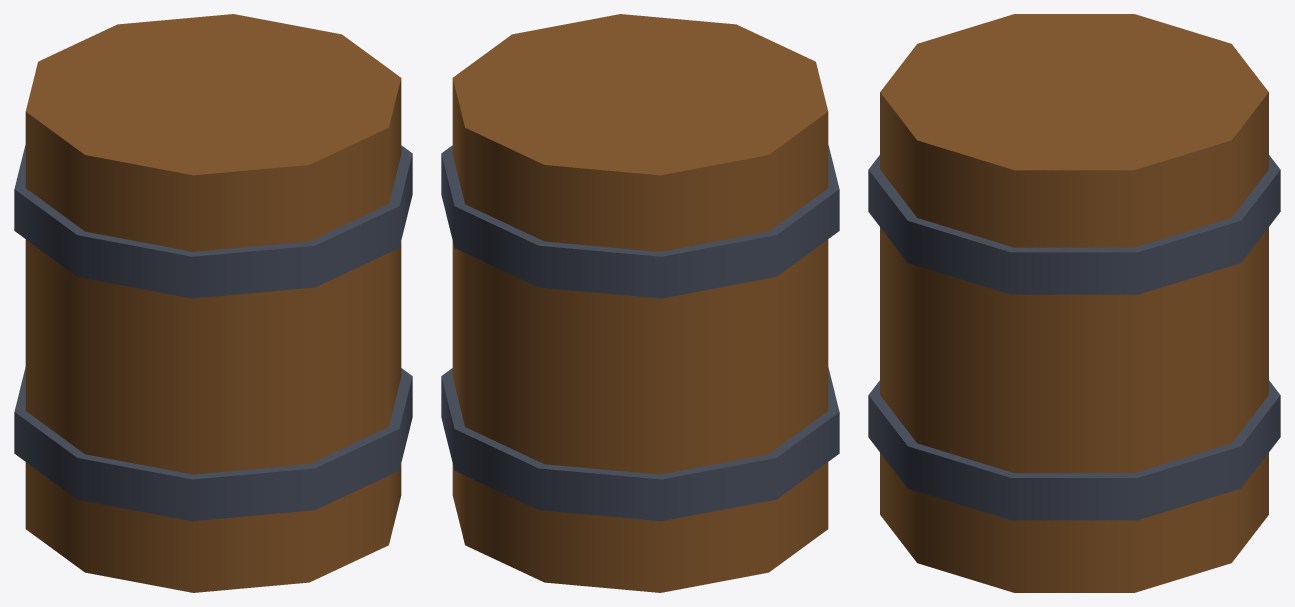
Rendered from tonneau.glb.
The picture shows the model from 3 angles, left to right: view 1: azimuth 30°, elevation 25°; view 2: azimuth 150°, elevation 25°; view 3: azimuth 270°, elevation 25°; orthographic projection.
Bounding box in the file's own units: 1.01 × 1.2 × 1.06.
